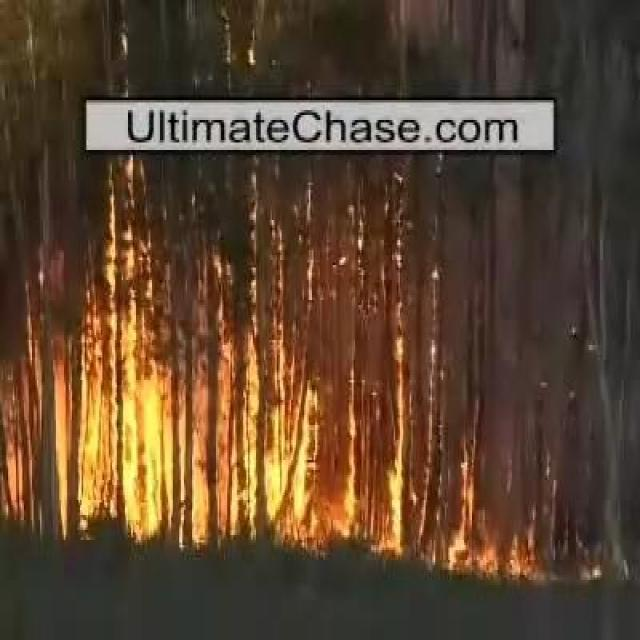Fire: (55, 269, 402, 556), (447, 464, 540, 581)
